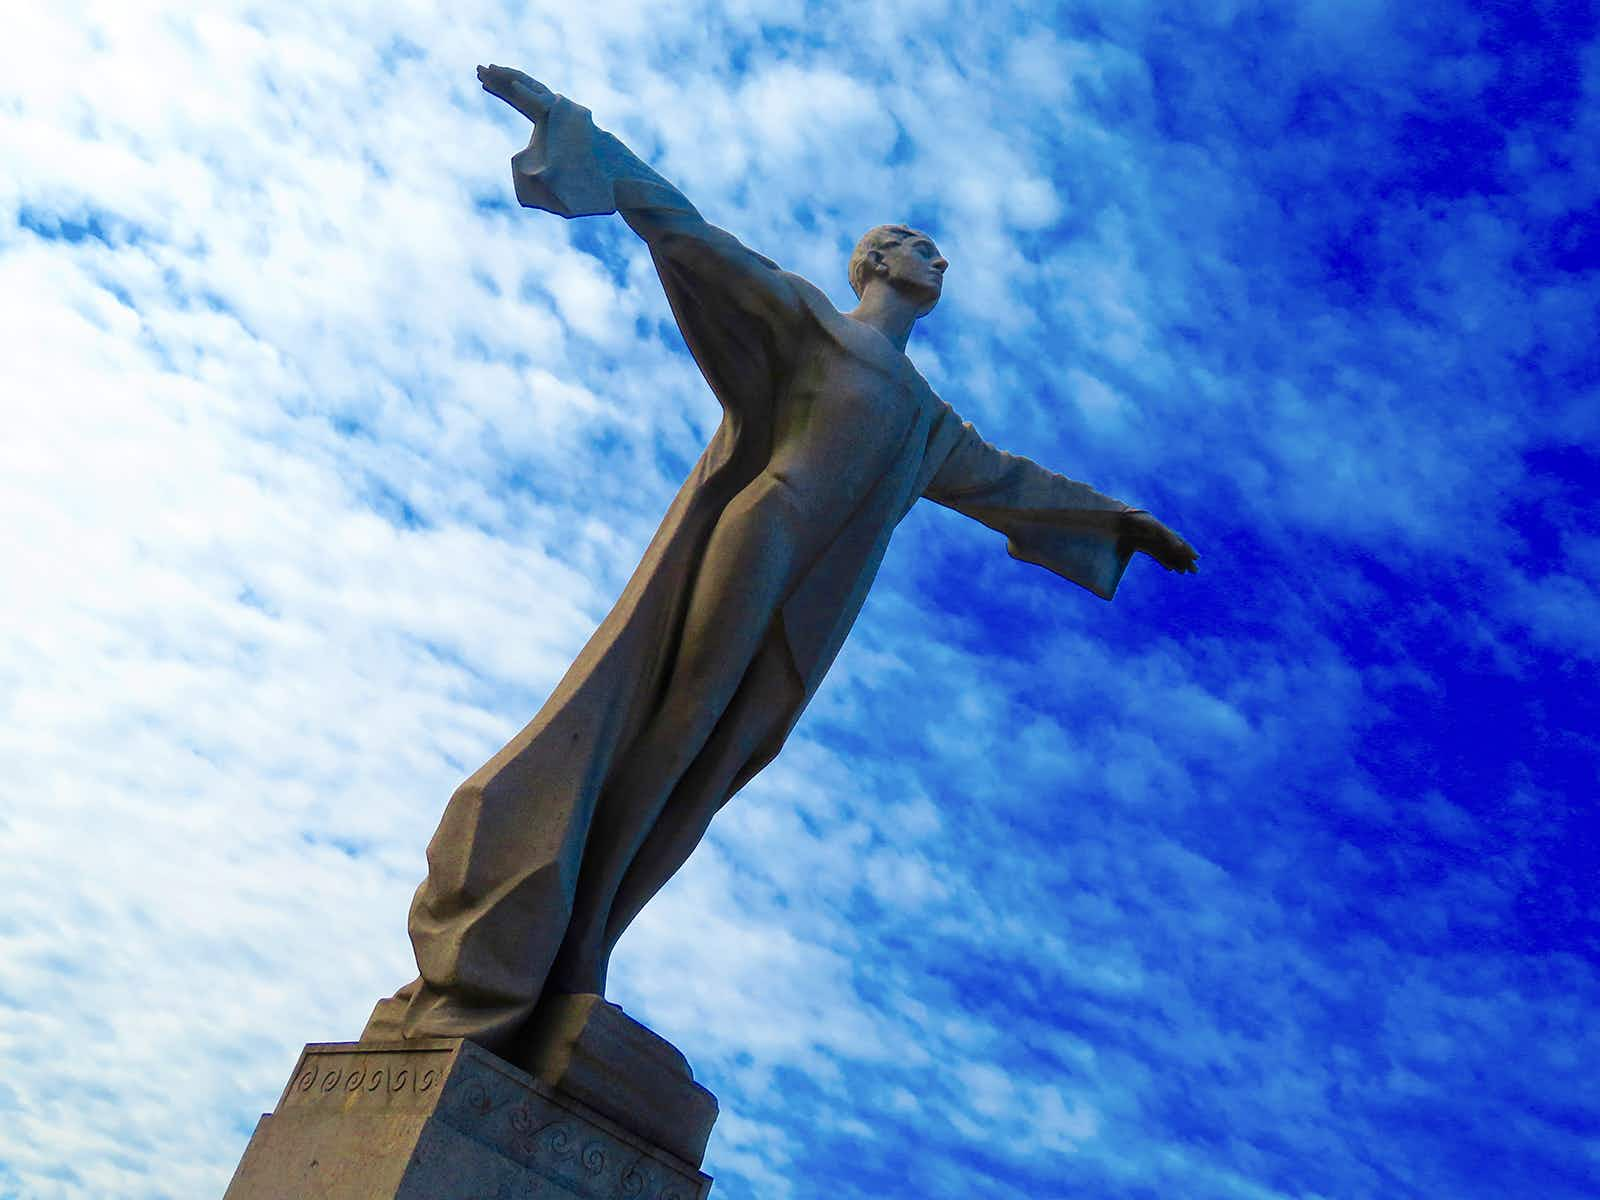person-like: (398, 44, 1214, 1015)
